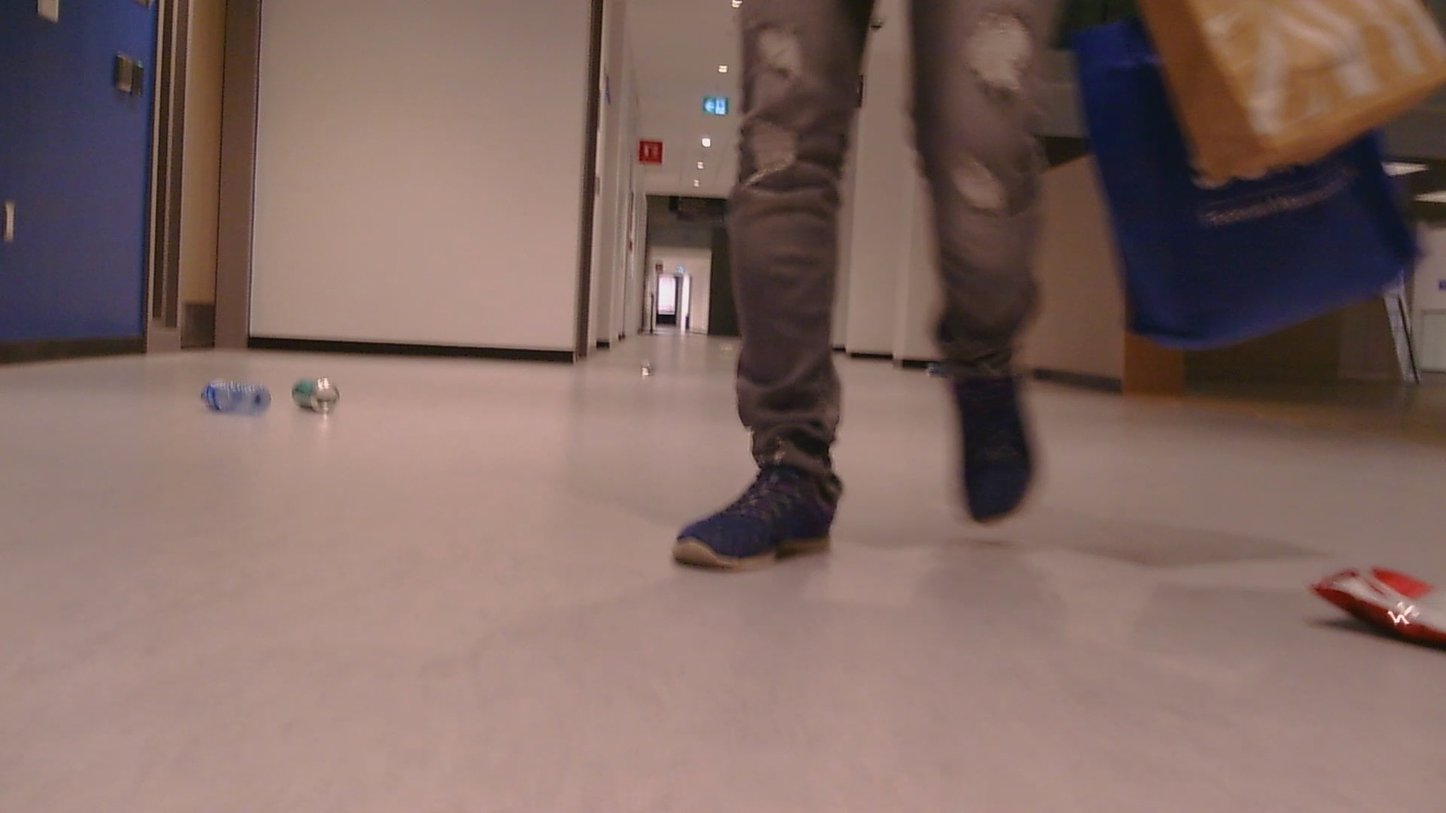carton: (1321, 533, 1446, 652), (185, 366, 276, 428), (294, 370, 347, 423)
